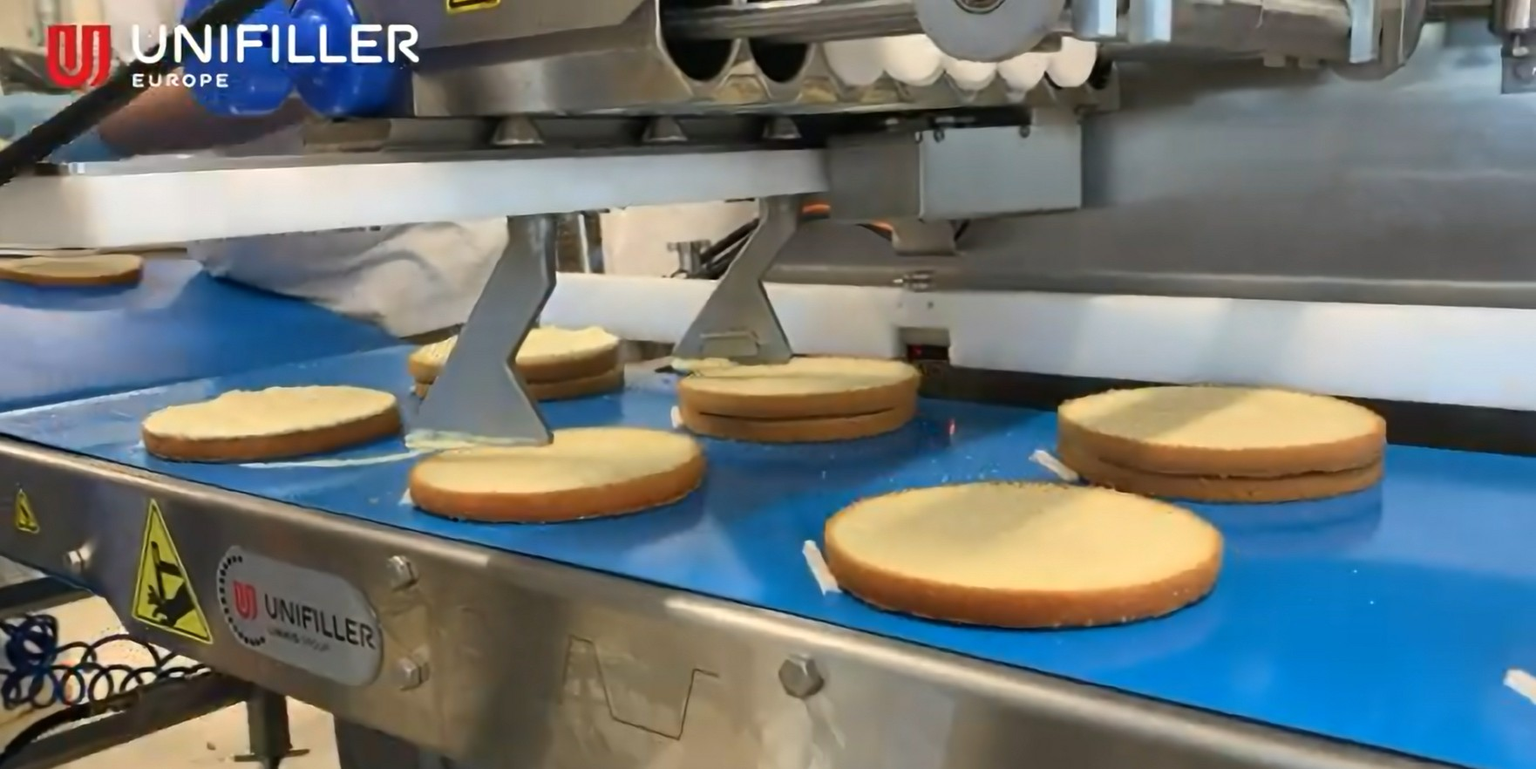Sponge Cake: (822, 477, 1228, 626), (1053, 381, 1388, 501), (410, 428, 708, 521), (672, 351, 922, 440), (132, 389, 396, 464), (412, 332, 628, 395)
